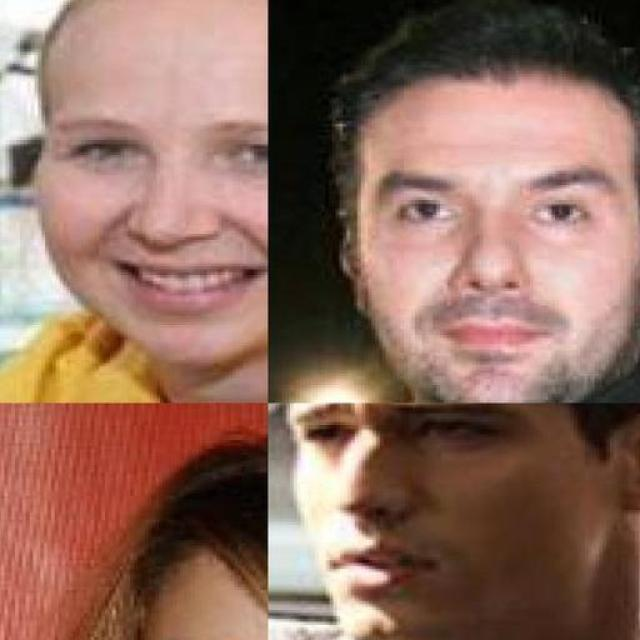bareface: (341, 89, 640, 374)
